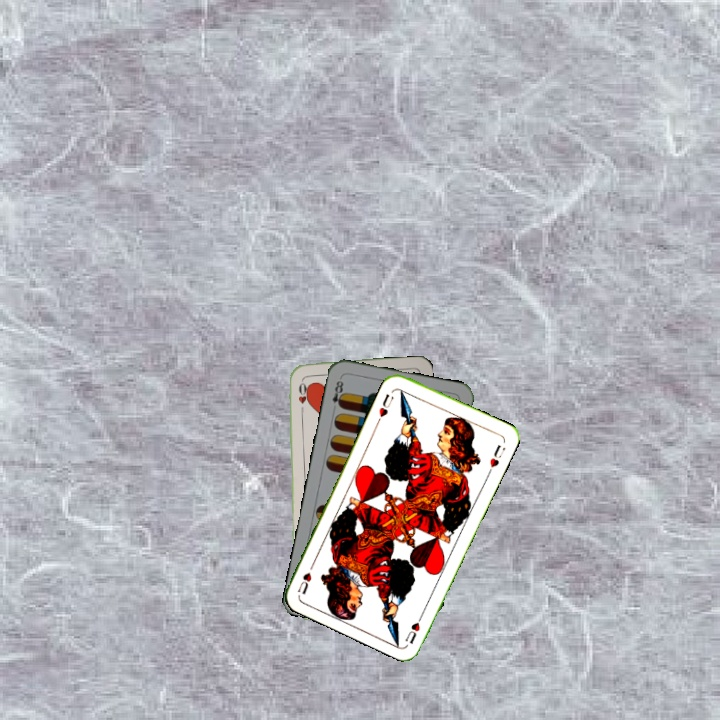E8: (328, 374, 347, 414)
HO: (294, 376, 308, 417)
HU: (401, 608, 426, 646), (375, 390, 396, 420)
